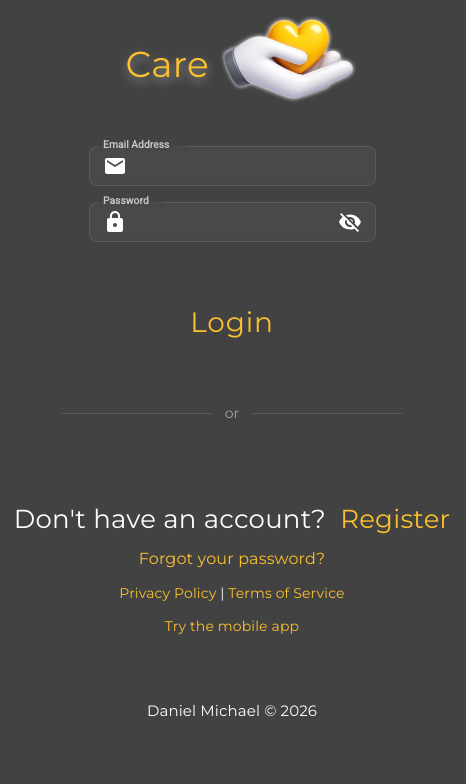
Authentication › Login › shows error with invalid credentials
The width and height of the screenshot is (466, 784).
Type "wrong@example.com" into the field named "email" at (256, 166), box [135,146,376,186]
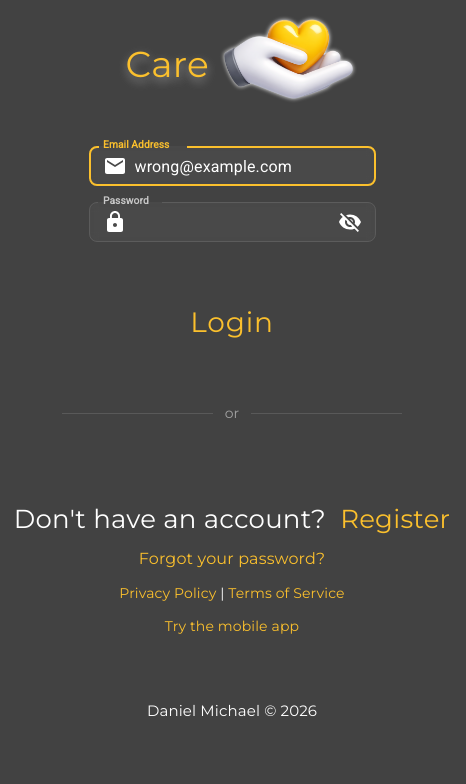
Type "wrongpassword" into the password field named "password" at (227, 222), box [135,202,318,242]
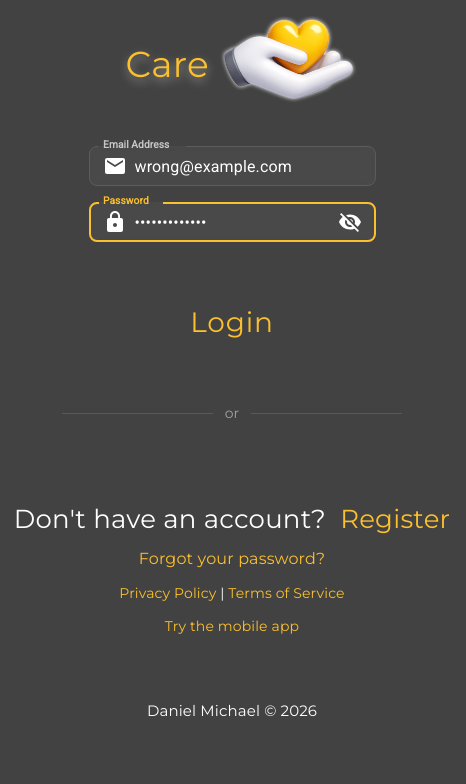
Click the submit button at (232, 323), box [170,278,294,367]
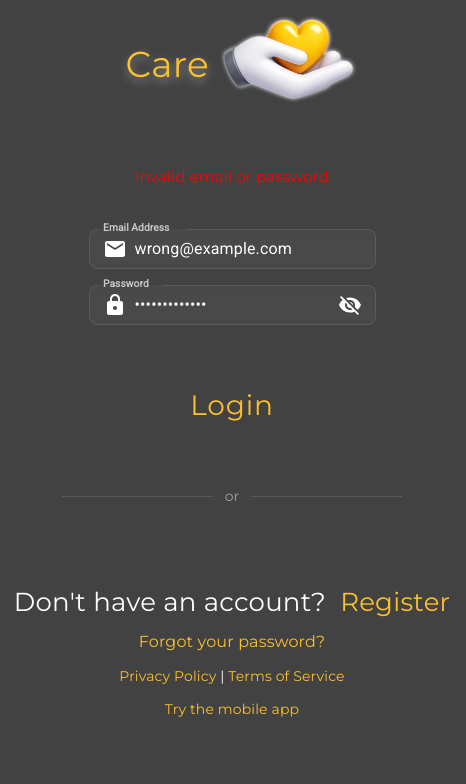
Expected: the text "Invalid email or password" is shown, [135,167,329,186]
